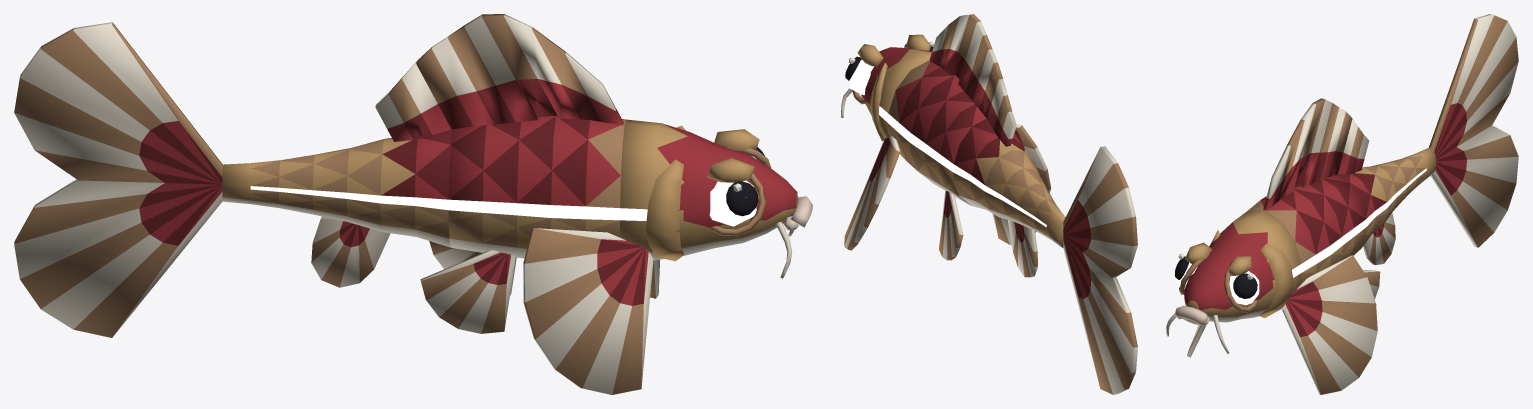
File: carp-lacquer-back.glb
3 views of the same model, side by side, from view 1: azimuth 30°, elevation 25°; view 2: azimuth 150°, elevation 25°; view 3: azimuth 270°, elevation 25° (orthographic). The views are drawn at different scales.
Visible parts, largest first — view 1: wag_body_2, wag_body_0, wag_body_1, glide_fin_r, carp_head, pulse_gill_r, blink_eye_r; view 2: wag_body_0, wag_body_2, wag_body_1, carp_head, glide_fin_l, blink_eye_l, glide_fin_r, pulse_gill_l; view 3: wag_body_2, wag_body_0, glide_fin_l, carp_head, wag_body_1, pulse_gill_l, blink_eye_l.
Boxes of the visible parts, x1,y1,x2,y2 form: wag_body_2: (14, 22, 222, 337); wag_body_0: (416, 14, 626, 333); wag_body_1: (222, 61, 452, 287); glide_fin_r: (523, 228, 653, 394); carp_head: (620, 119, 812, 260); pulse_gill_r: (646, 159, 684, 261); blink_eye_r: (709, 180, 758, 226); wag_body_0: (887, 14, 1035, 260); wag_body_2: (1063, 146, 1137, 394); wag_body_1: (953, 78, 1065, 277); carp_head: (852, 34, 931, 138); glide_fin_l: (844, 136, 900, 250); blink_eye_l: (845, 56, 873, 95); glide_fin_r: (1016, 124, 1051, 193); pulse_gill_l: (870, 63, 887, 141); wag_body_2: (1428, 14, 1518, 247); wag_body_0: (1247, 98, 1380, 299); glide_fin_l: (1281, 255, 1377, 394); carp_head: (1174, 210, 1301, 325); wag_body_1: (1338, 118, 1436, 265); pulse_gill_l: (1259, 243, 1293, 317); blink_eye_l: (1229, 271, 1259, 305).
Size of the model in its own units: 0.7018 by 0.3841 by 0.5042.
